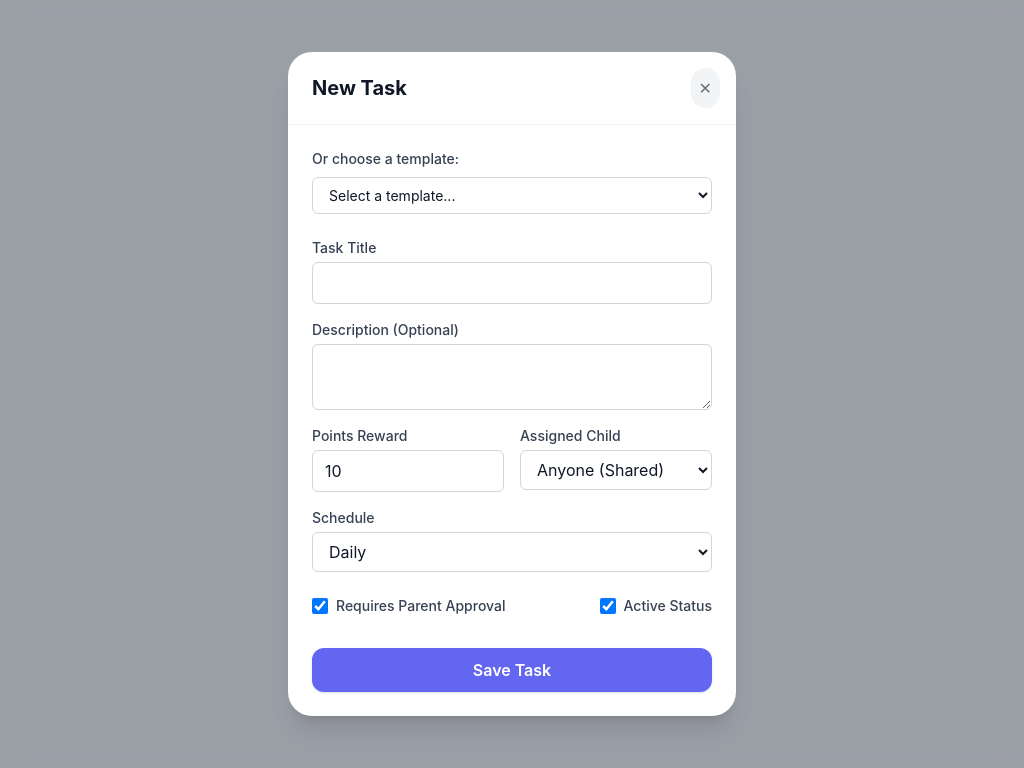
TaskFormModal save behaviour › retains the modal and surfaces the error after a failed save
This screenshot has width=1024, height=768.
Type "Tidy room" into the field at {"x": 512, "y": 283}, box [312,262,712,304]
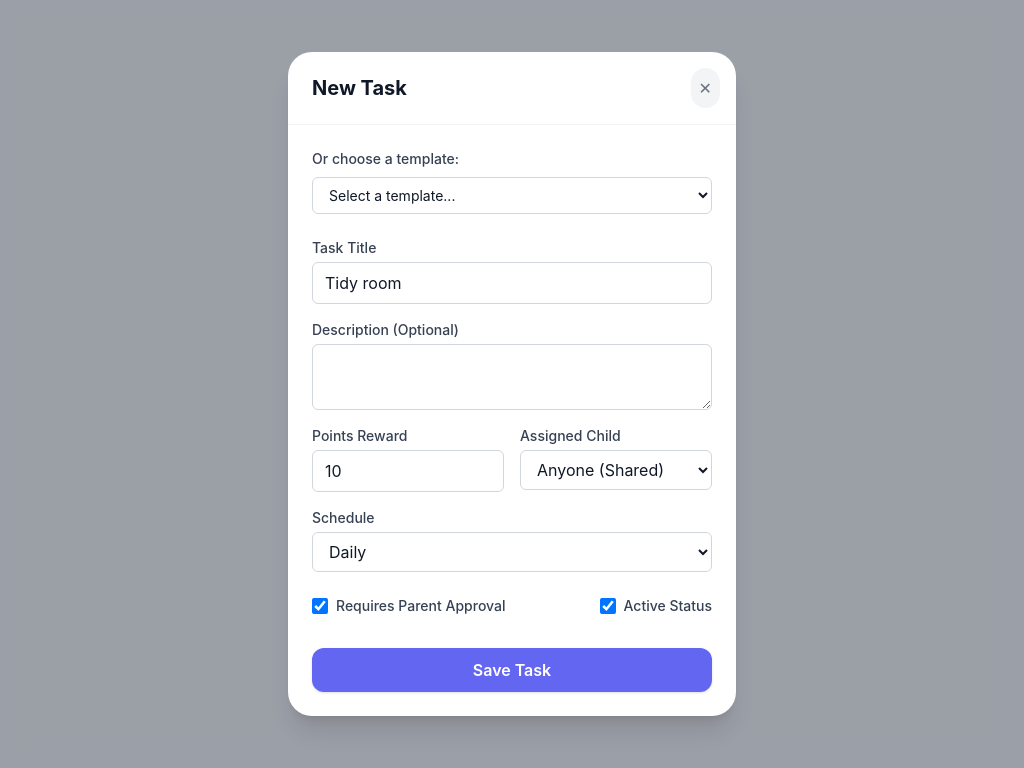
Click the button "Save Task" at {"x": 512, "y": 670}, box [312,648,712,692]
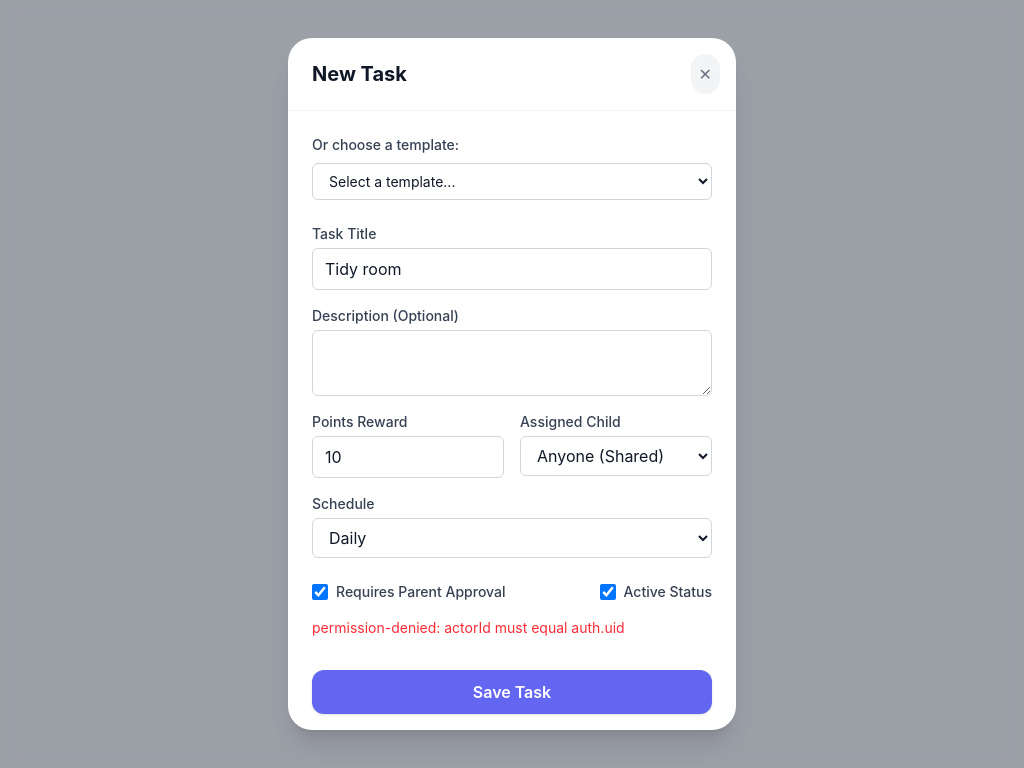
Now the text "permission-denied: actorId must equal auth.uid" is shown, box [312,619,625,636]
